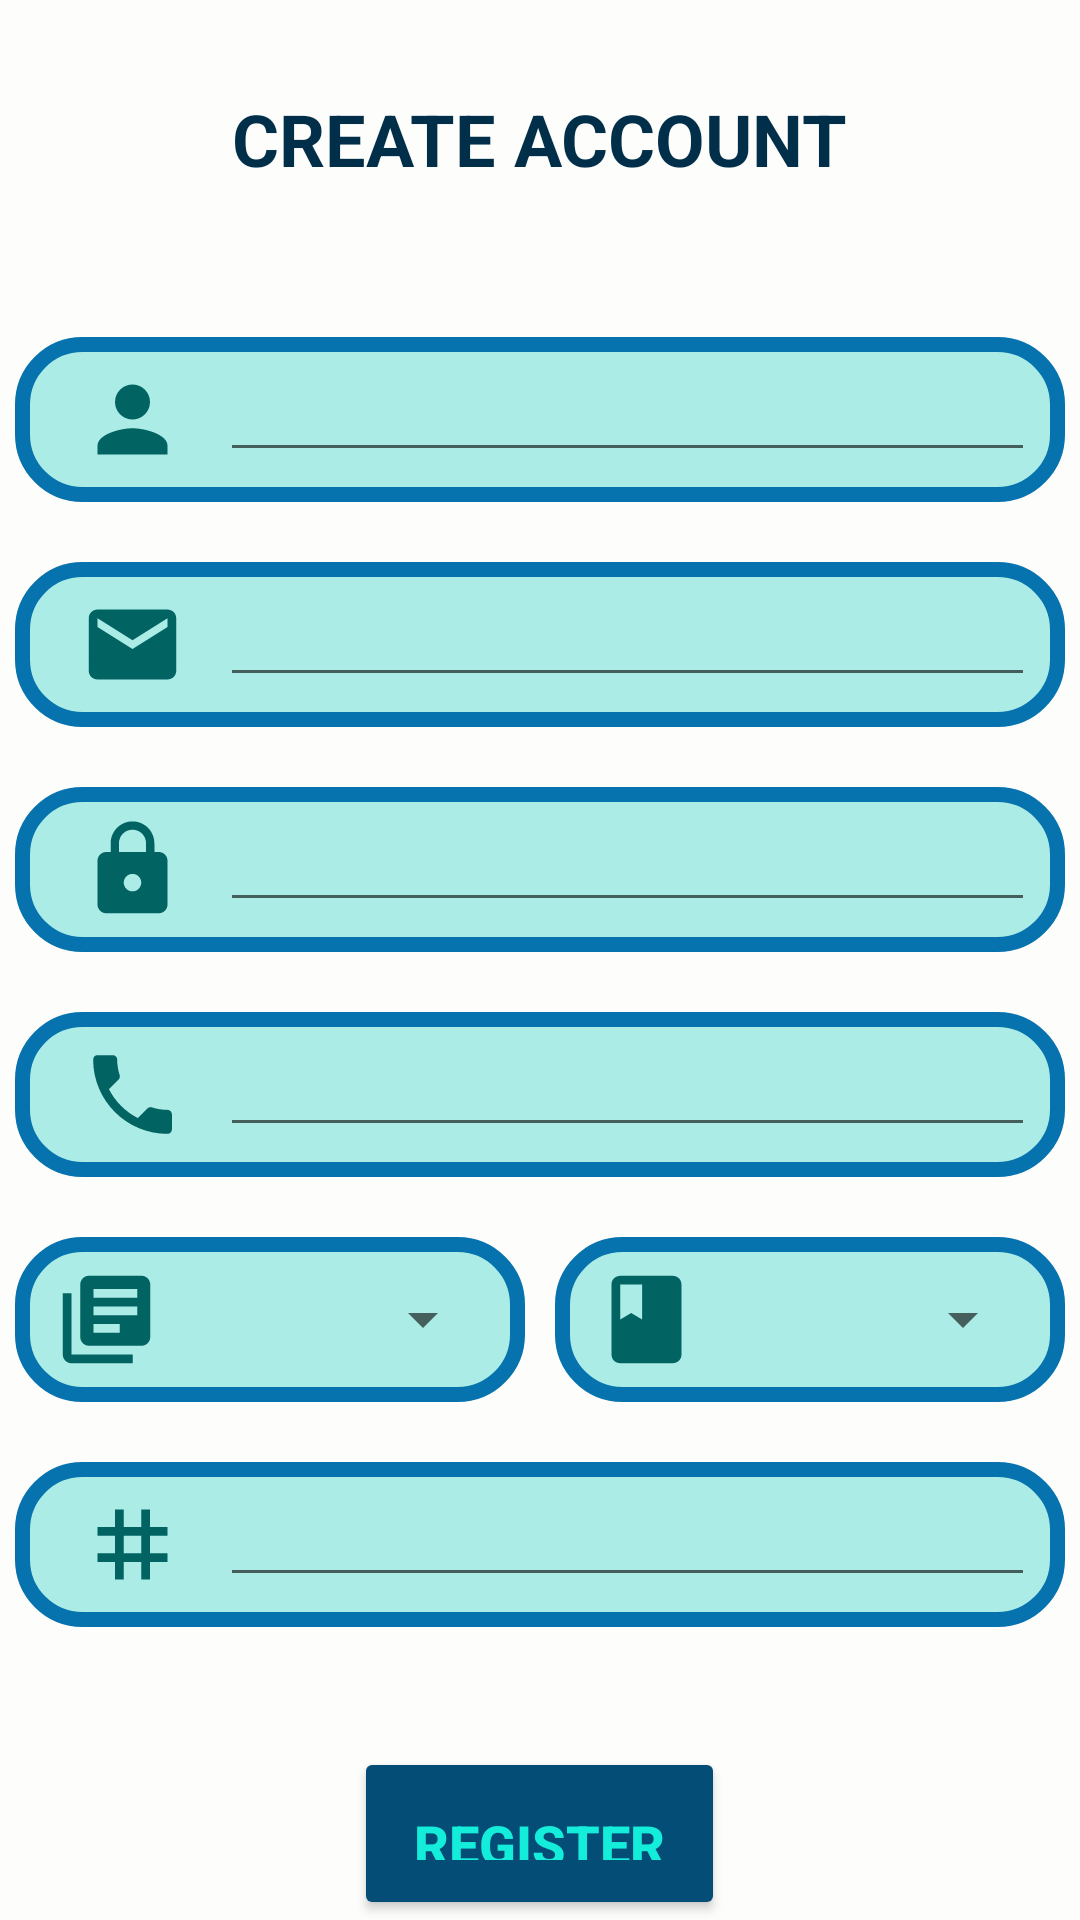

Locate icon controls on the screen. Image size 1080w x 1920h, boxes as (x1=x1, y1=y1, x2=x2, y2=y2).
email: (x1=88, y1=609, x2=177, y2=680)
password: (x1=97, y1=821, x2=168, y2=914)
phone: (x1=93, y1=1055, x2=172, y2=1134)
roll no: (x1=97, y1=1509, x2=168, y2=1580)
username: (x1=97, y1=384, x2=168, y2=455)
